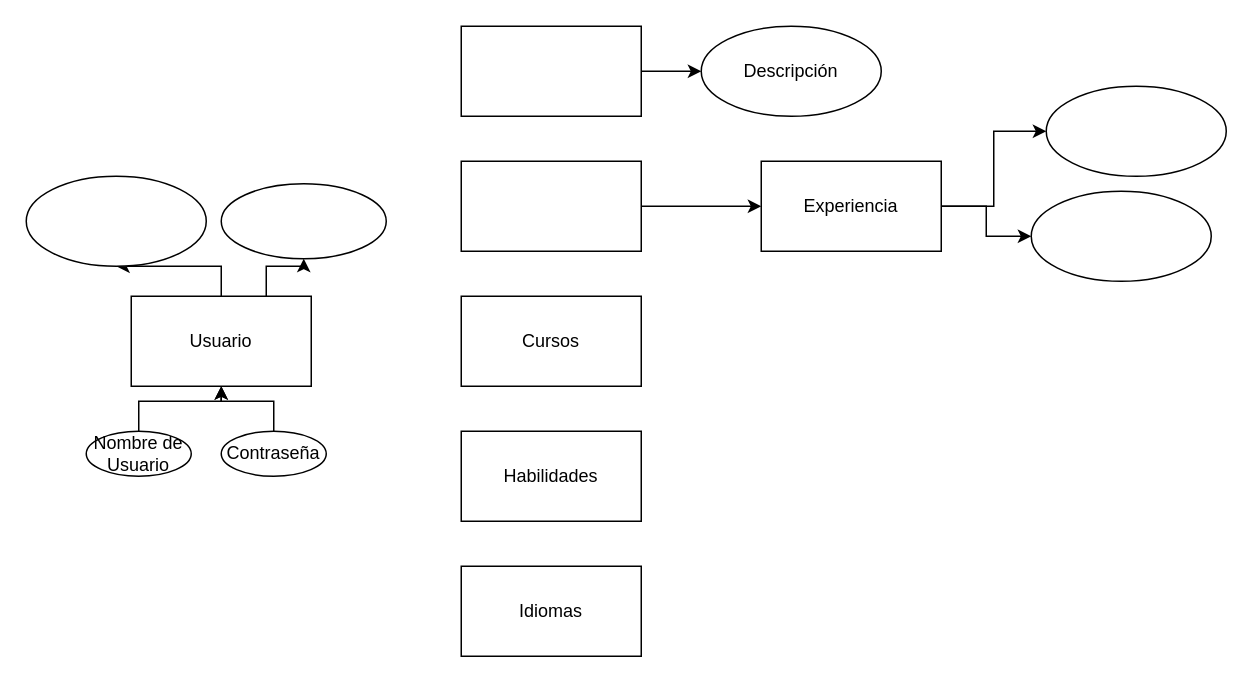
The diagram is 1253 pixels wide and 683 high, and some of its shapes have lost their labels. The centre of each missing label's shape, as x and y in pixels:
Acerca De: the point at 550,70
Experiencias: the point at 550,205
Fecha de nacimiento: the point at 303,220
Nombre y Apellido: the point at 115,220
